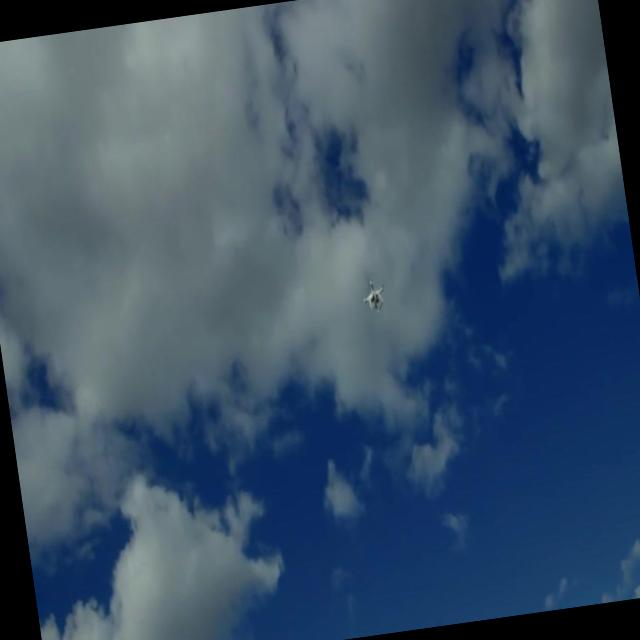drone: (359, 278, 388, 318)
